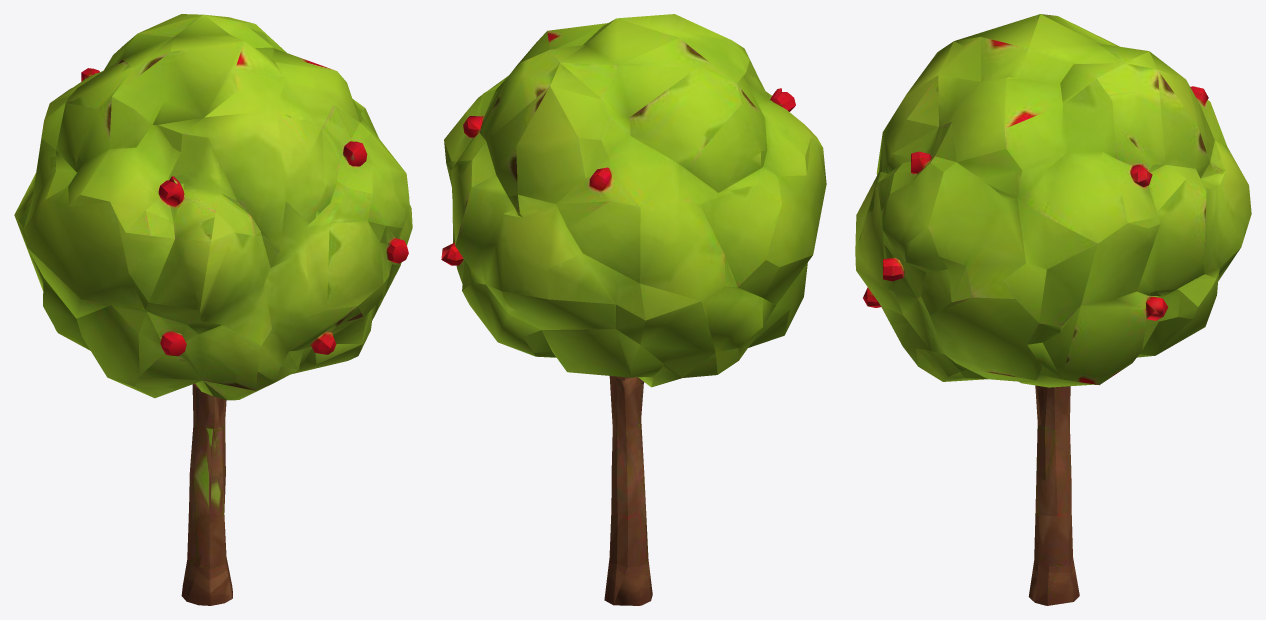
The model's file is meadow_round.glb.
3 views of the same model, side by side, from view 1: azimuth 30°, elevation 25°; view 2: azimuth 150°, elevation 25°; view 3: azimuth 270°, elevation 25° (orthographic).
Bounding box in the file's own units: 1.19 × 1.89 × 1.21.
Materials: 1 (1 with a texture image).
